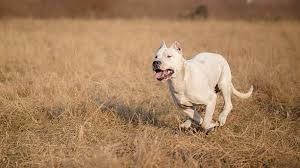dog: (151, 37, 261, 133)
